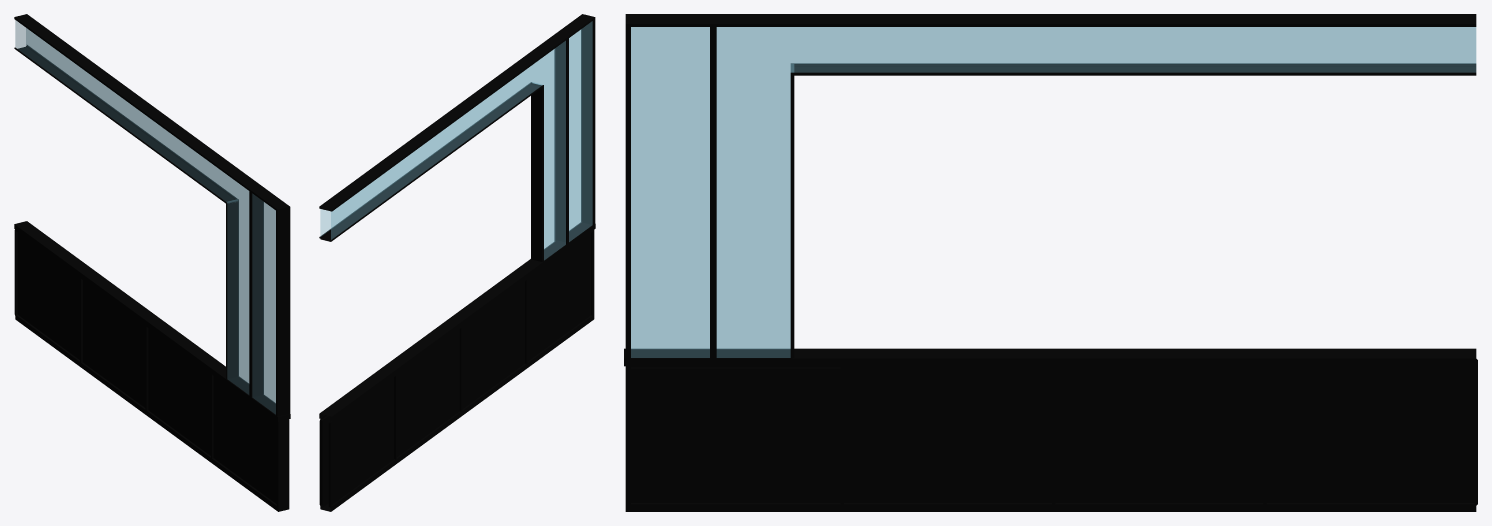
The model's file is GrandMur.glb.
3 renders of one model, left to right at view 1: azimuth 30°, elevation 25°; view 2: azimuth 150°, elevation 25°; view 3: azimuth 270°, elevation 25°, orthographic. The views are drawn at different scales.
Parts seen in each view (by area): view 1: Cube; view 2: Cube; view 3: Cube.
Part boxes in pixels (<box>): Cube: <box>14,14,290,511</box>; Cube: <box>319,14,595,511</box>; Cube: <box>624,14,1477,511</box>.
Bounding box in the file's own units: 0.14 × 3.17 × 5.02.
